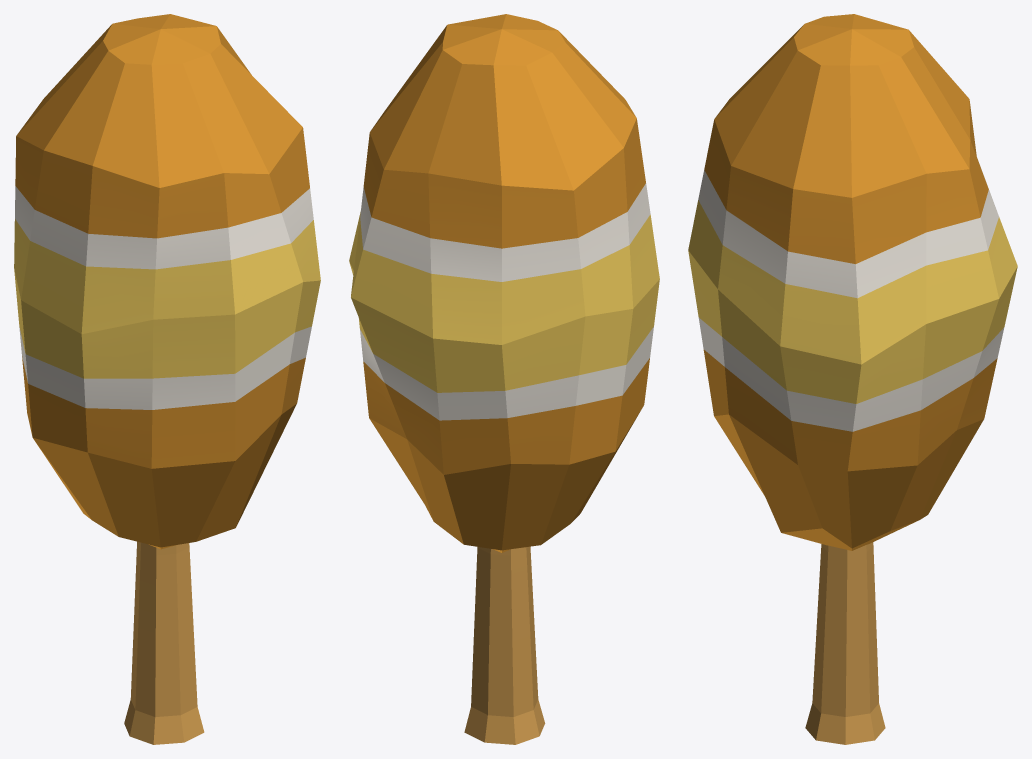
File: Tree_stem_01.027.fbx
The picture shows the model from 3 angles, left to right: view 1: azimuth 30°, elevation 25°; view 2: azimuth 150°, elevation 25°; view 3: azimuth 270°, elevation 25°; orthographic projection.
Visible parts, largest first — view 1: Tree_stem_01.027; view 2: Tree_stem_01.027; view 3: Tree_stem_01.027.
Part boxes in pixels (x1,y1,x2,y2): Tree_stem_01.027: [14, 14, 320, 744]; Tree_stem_01.027: [349, 14, 659, 744]; Tree_stem_01.027: [688, 14, 1017, 744].
Bounding box in the file's own units: 140 × 330 × 141.
